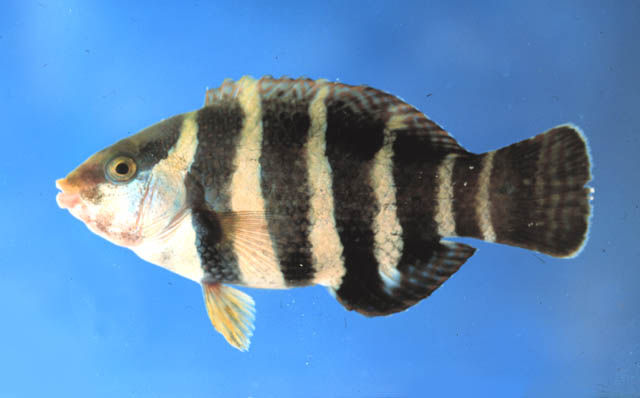fish: (54, 74, 595, 353)
